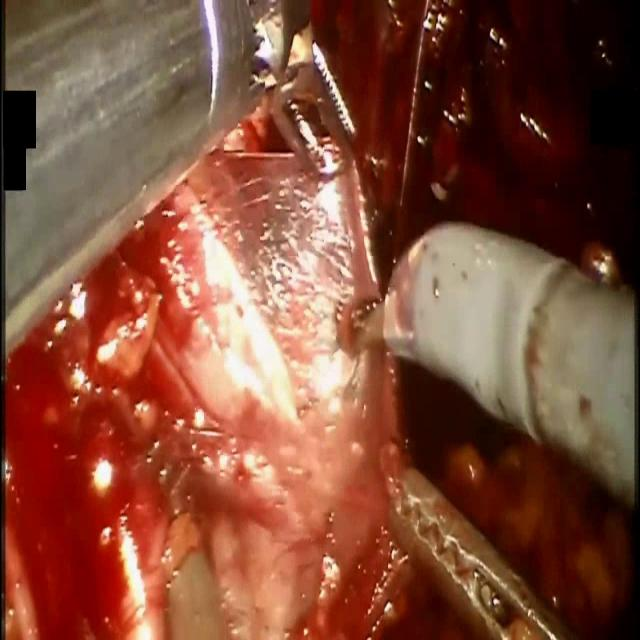surgical-area: (1, 0, 640, 639)
surgical-tool: (4, 0, 355, 363), (351, 220, 636, 516), (384, 463, 587, 639)
